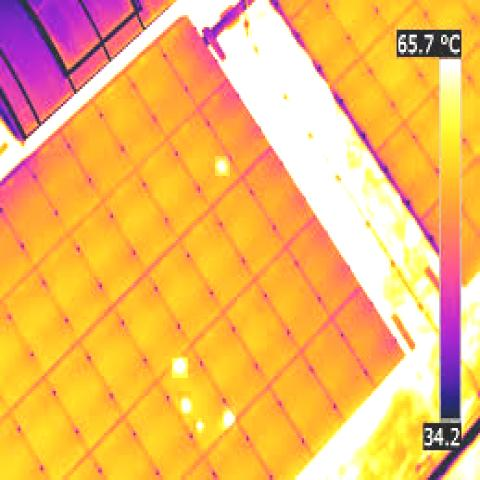fault: (178, 391, 191, 418), (222, 406, 236, 430), (172, 358, 188, 378), (215, 156, 230, 176), (193, 420, 204, 430)
